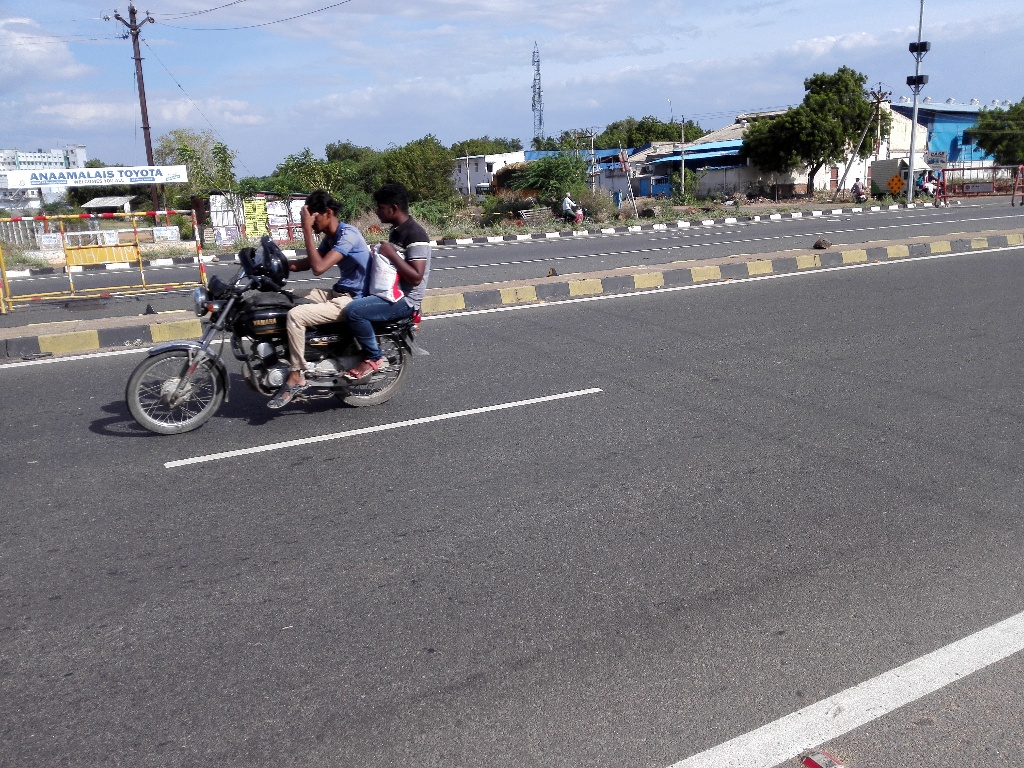biker: (107, 154, 468, 446)
nohelmet: (368, 180, 422, 237), (293, 185, 347, 242)
